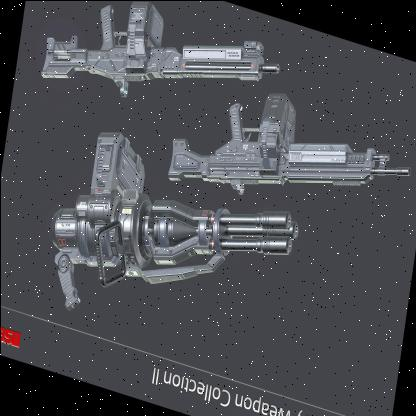rifle: (156, 78, 378, 236), (22, 0, 240, 117)
